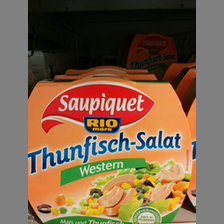fish: (28, 76, 194, 224)
